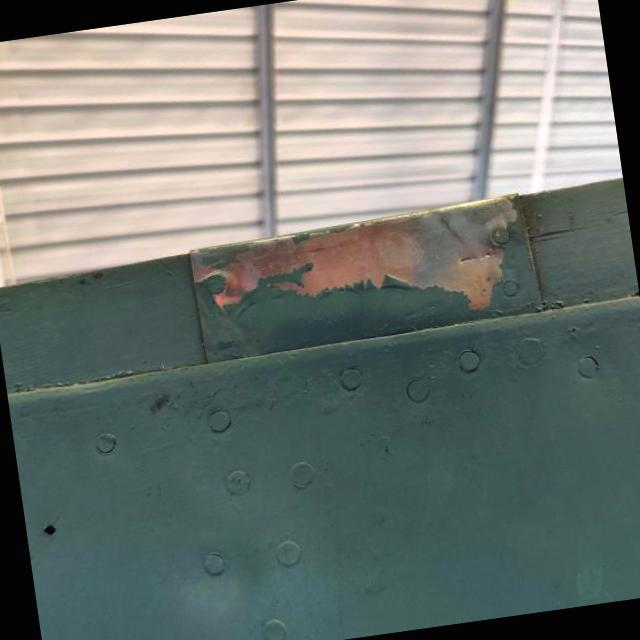paint-off: (164, 182, 554, 380)
